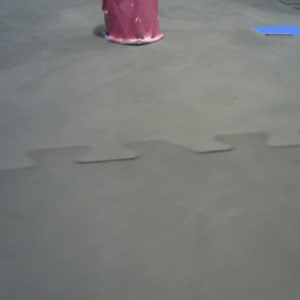middle: (102, 1, 164, 45)
